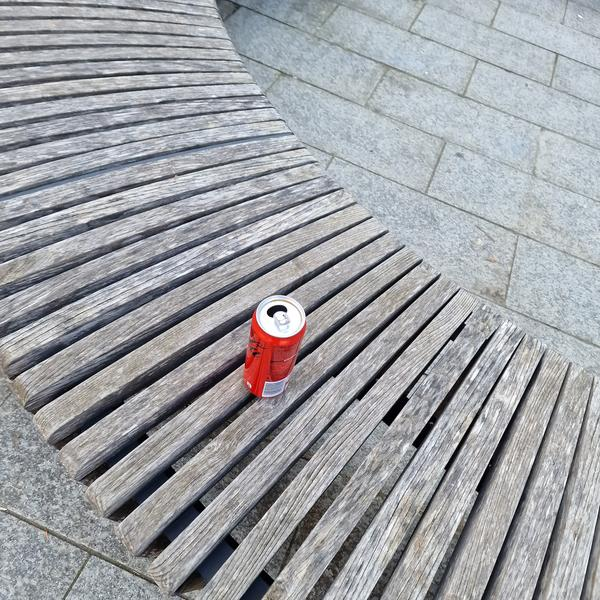can: (238, 290, 309, 403)
